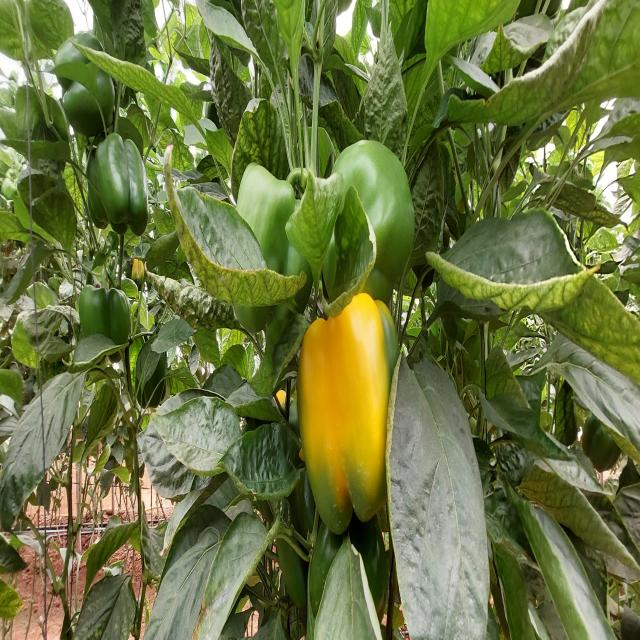GreenishYellow--Can-be-Harvested: (286, 279, 412, 549)
